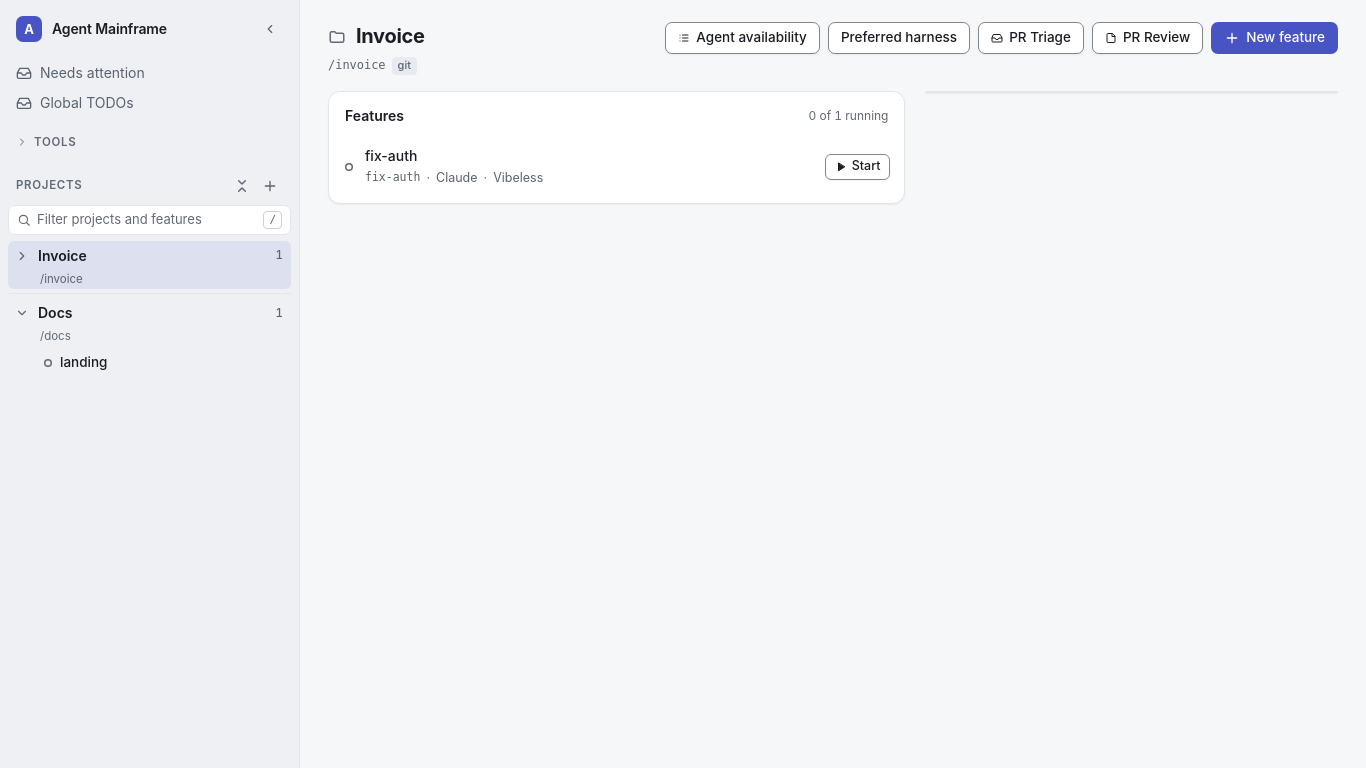
Test case: collapses filter-opened projects as view state and opens only visible matches on Enter
The image size is (1366, 768).
In the search field named "Filter projects and features": (147, 220) [37,210,257,229], type "auth"
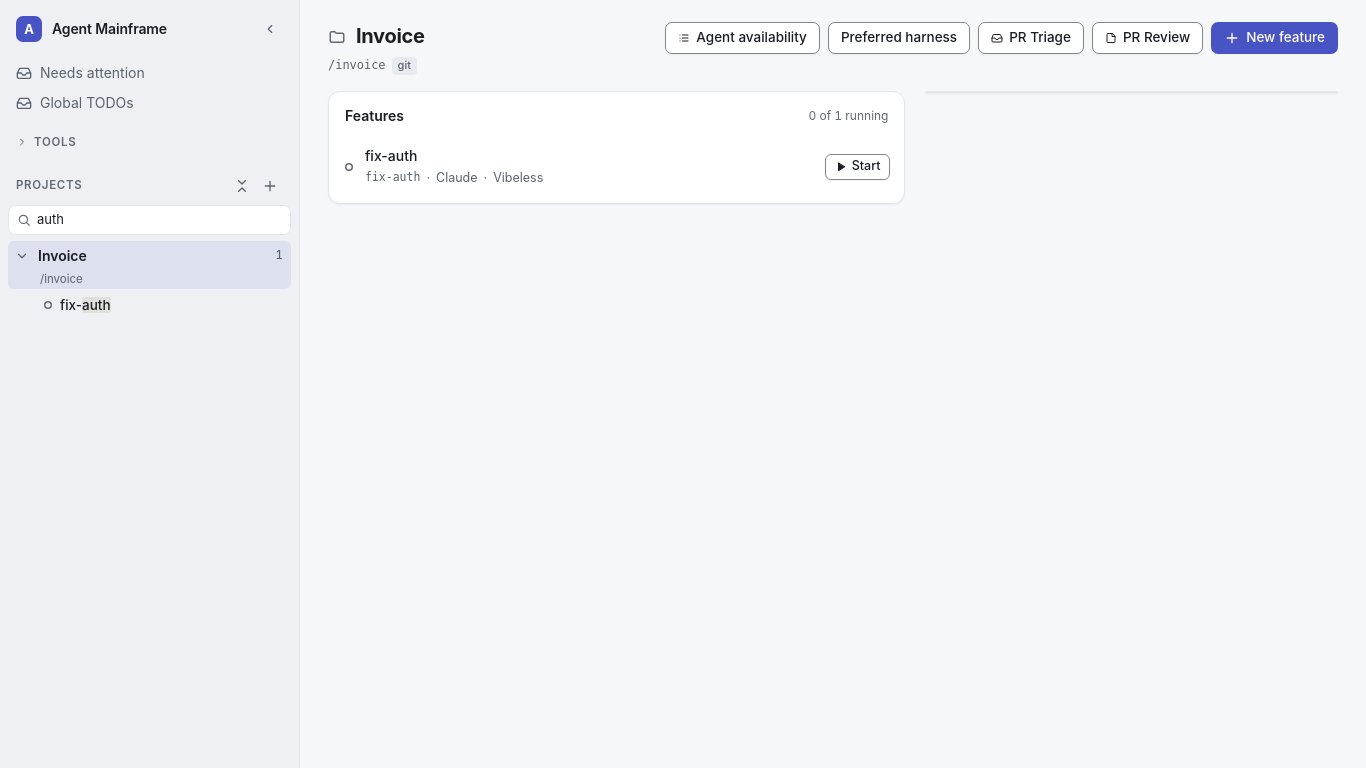
Check: the button "fix-auth" is shown, box [60,296,285,315]
Click the button named "Collapse all projects": (242, 186) [229,173,255,199]
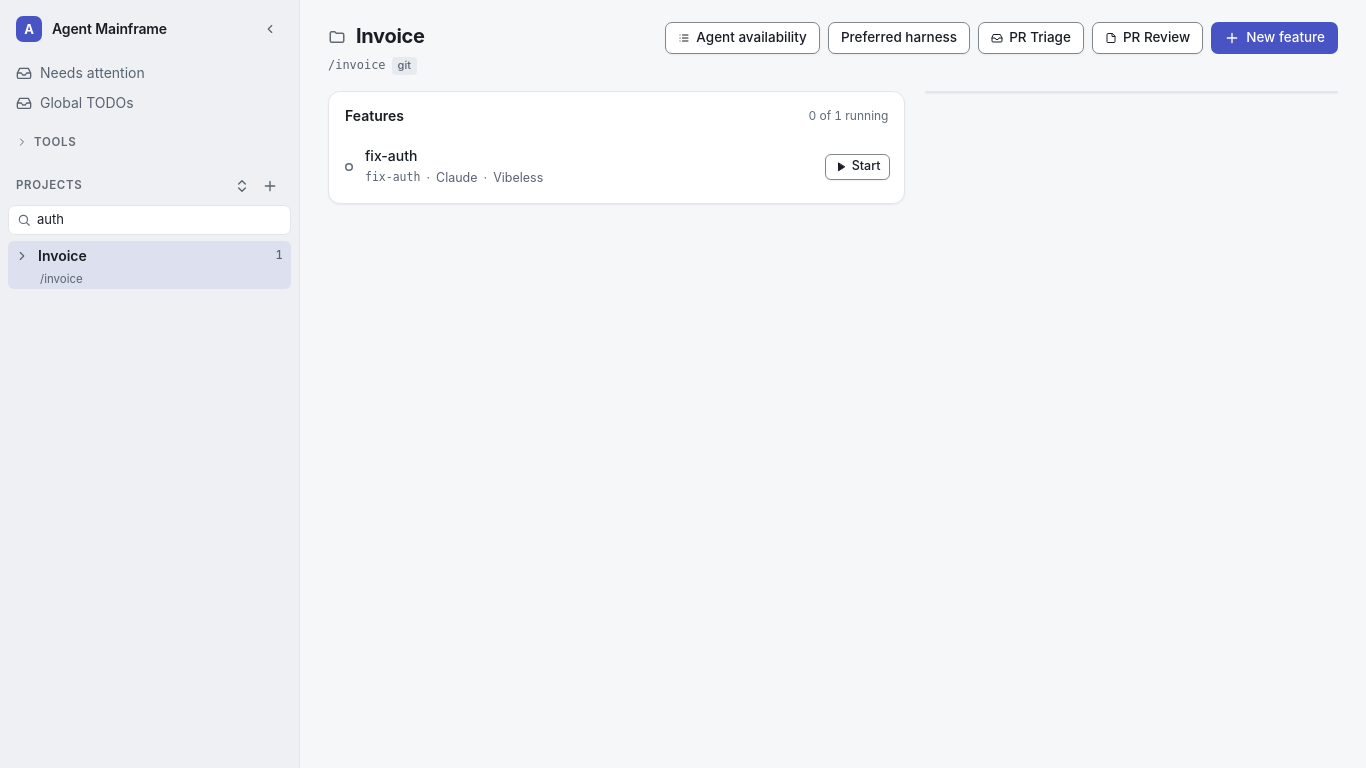
Check: the button named "Expand all projects" is shown, box [229,173,255,199]
Press Enter in the search field named "Filter projects and features", box [37,210,282,229]
Check: the element with class "tree-project-head-active" shows "Invoice", box [38,241,283,271]
Replace the text in the search field named "Filter projects and features" with "fix": (160, 220) [37,210,282,229]
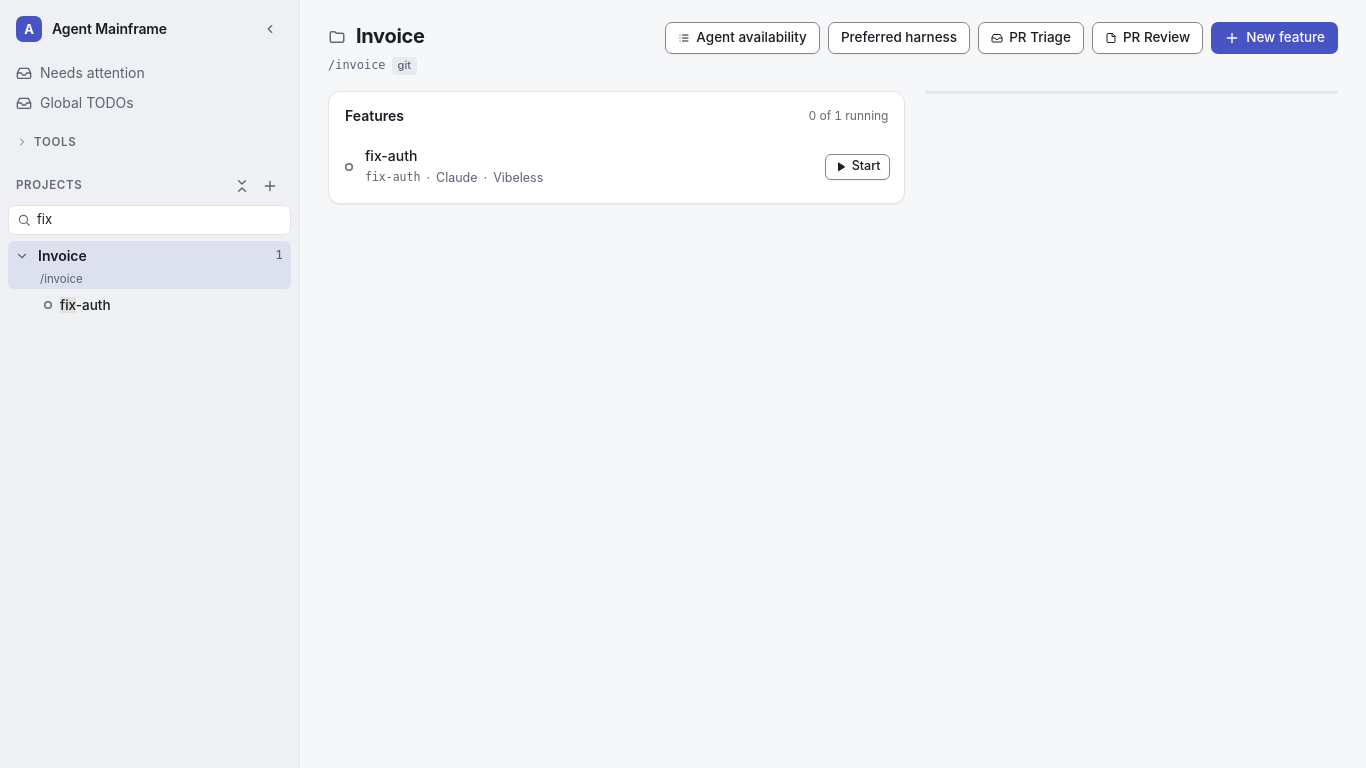
Check: the button "fix-auth" is shown, box [60,296,285,315]
